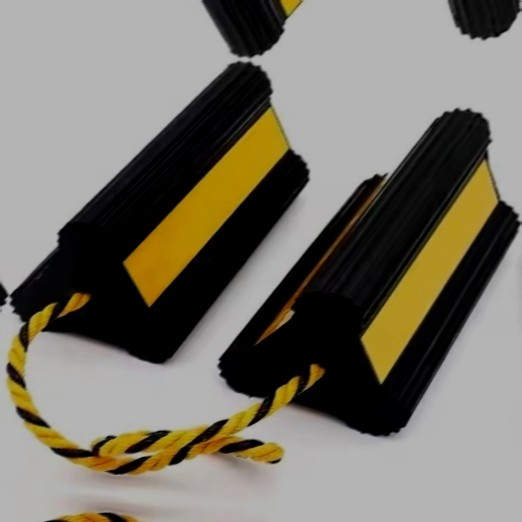chock: (0, 25, 336, 385), (206, 74, 522, 456), (473, 107, 522, 480), (0, 7, 51, 354)
